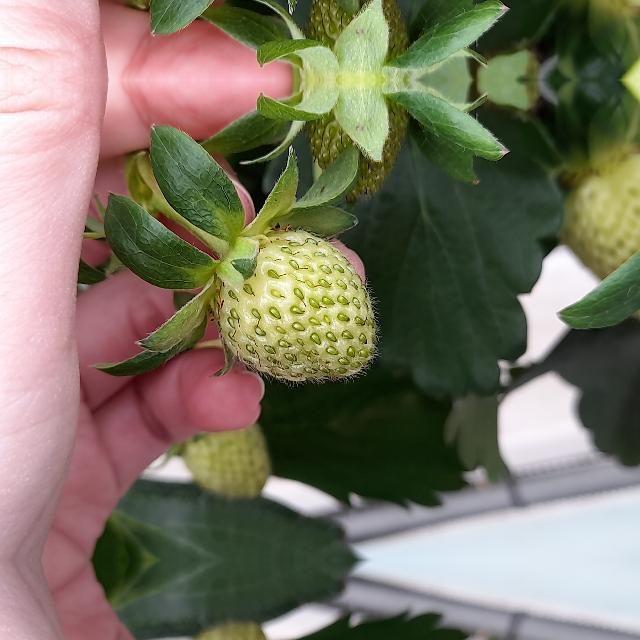Health_25: (208, 230, 376, 380)
